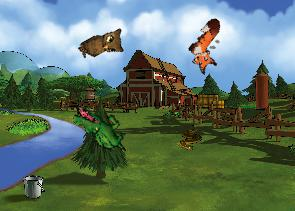crocodile: (67, 104, 133, 153)
fox: (179, 15, 238, 77)
owl: (76, 23, 130, 70)
